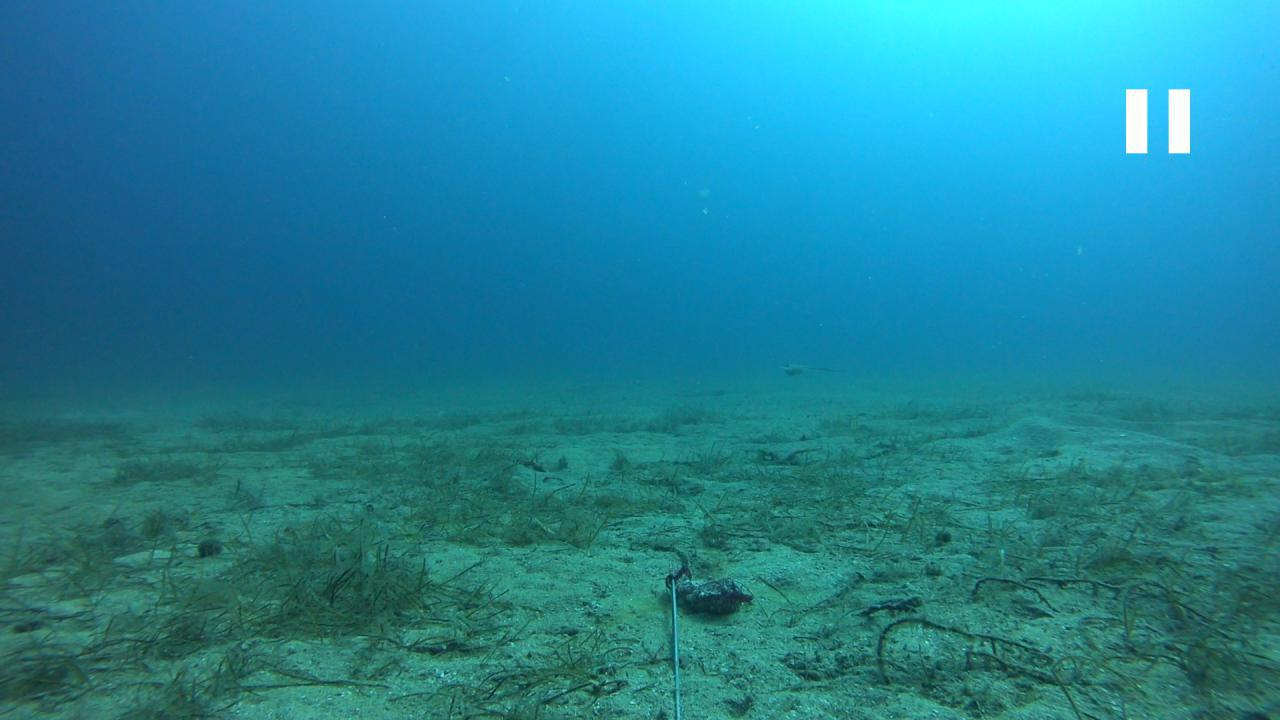dasyatis: (781, 362, 842, 375)
